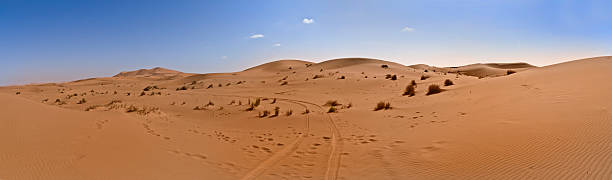vehicle_track: (276, 98, 341, 179), (241, 114, 309, 179), (325, 114, 341, 179)
